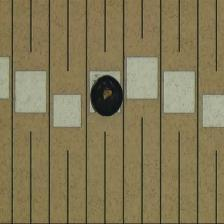PARTICLE: (90, 74, 126, 118)
